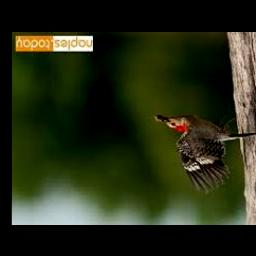Woodpecker: (164, 113, 256, 195)
